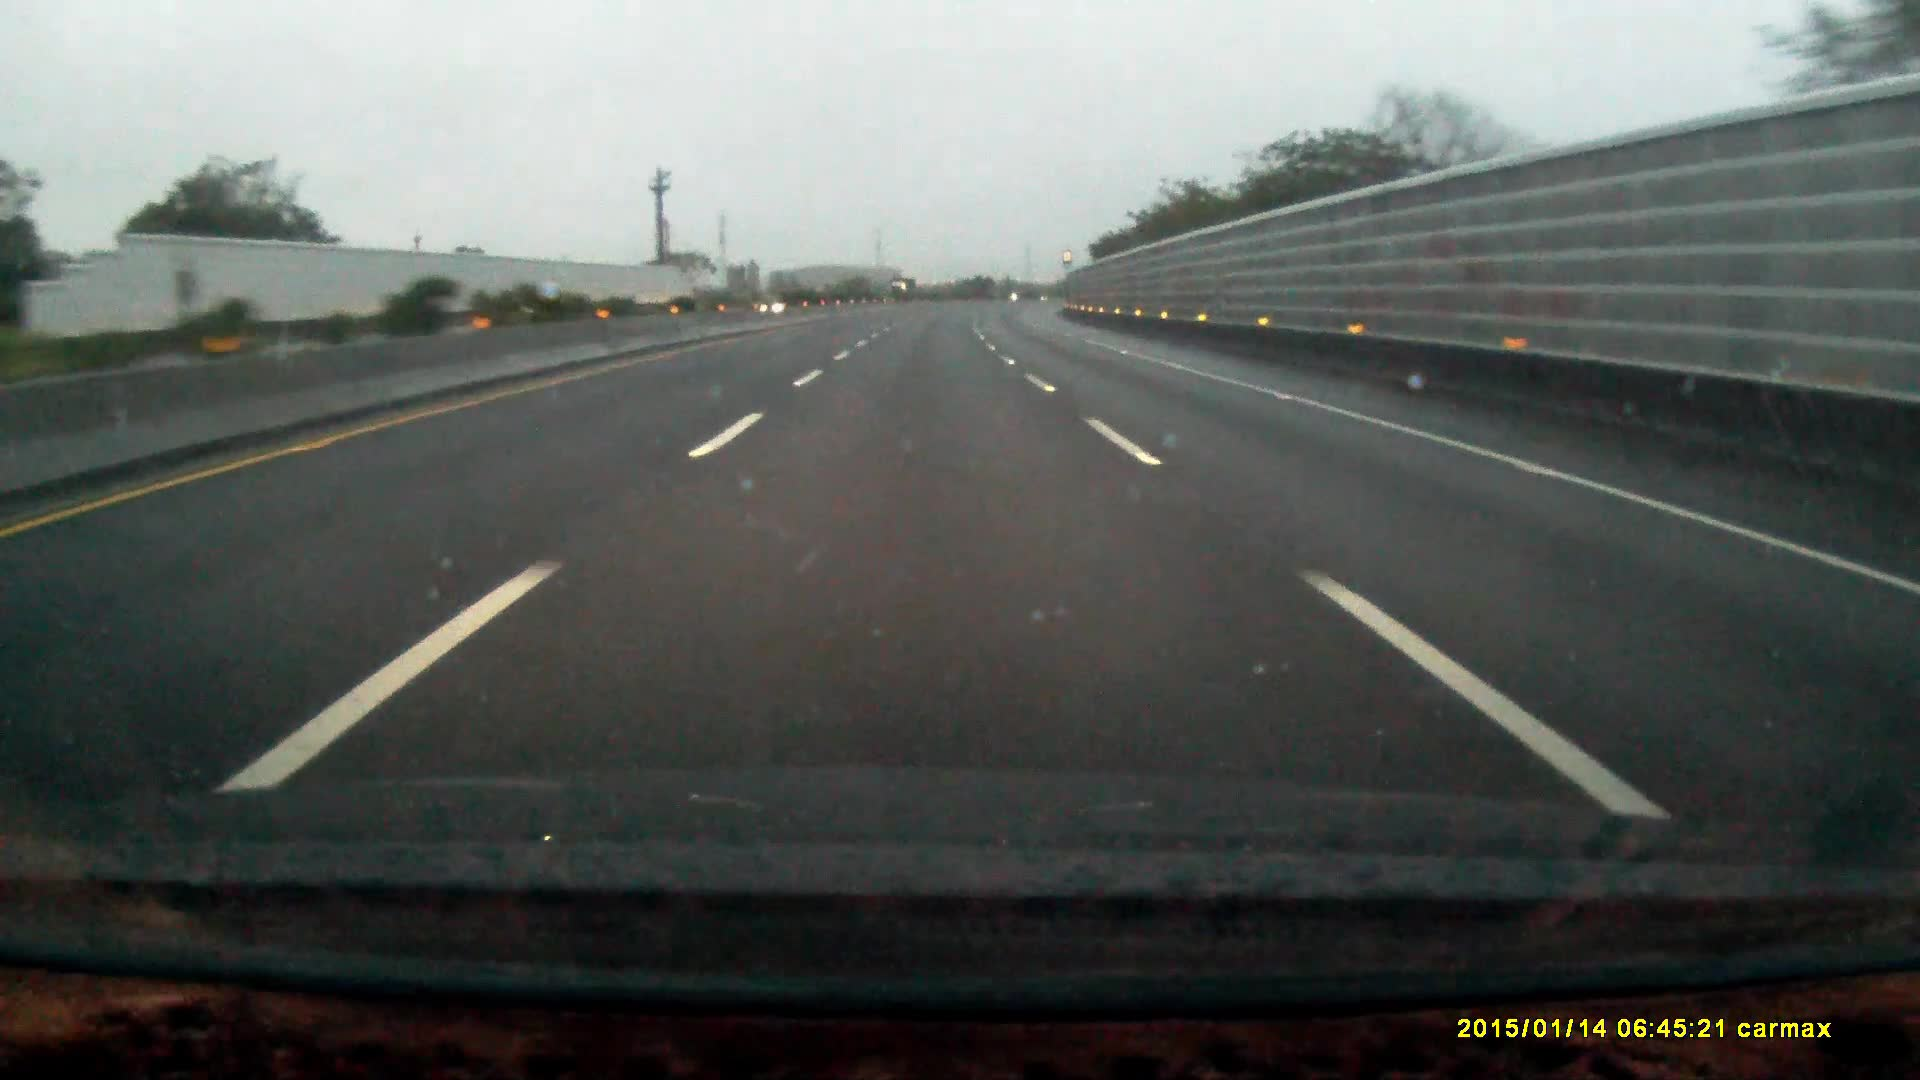vehicle: (891, 276, 918, 299)
